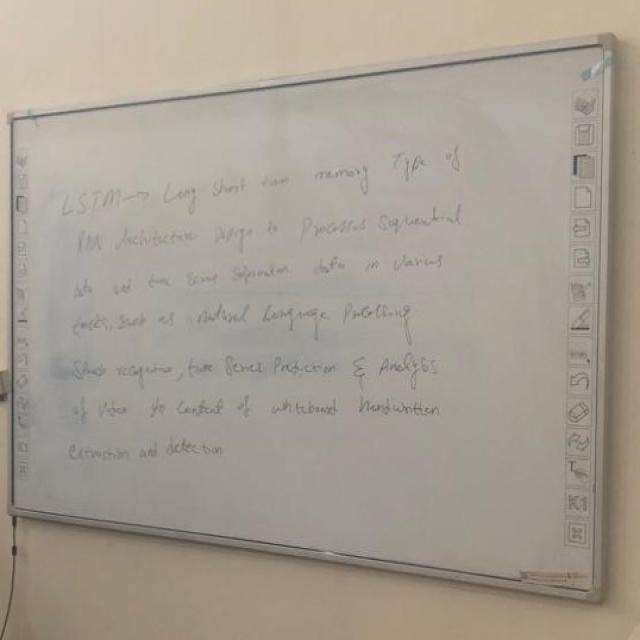White-board: (9, 46, 611, 599)
